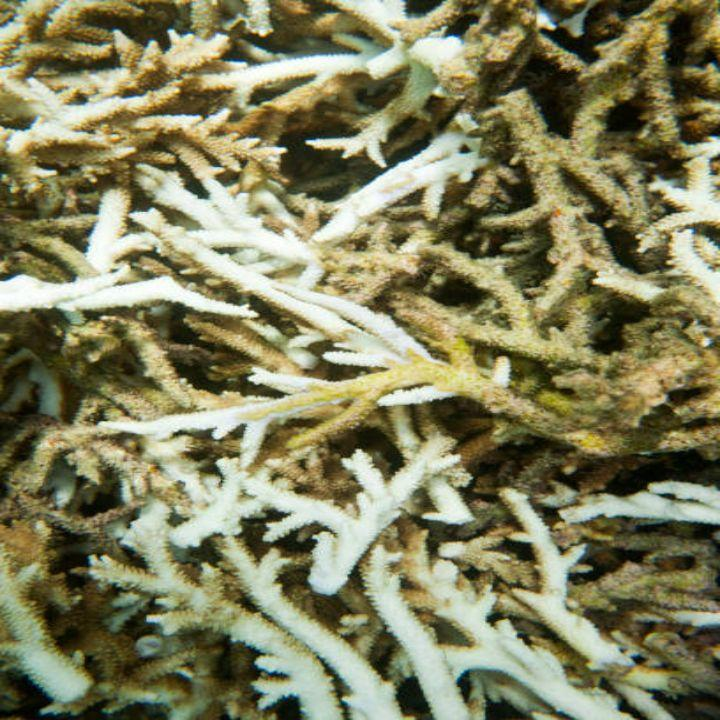Bleached disease: (36, 148, 631, 675)
